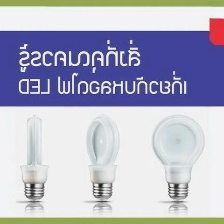light_bulb: (150, 112, 205, 203), (78, 110, 124, 206), (16, 110, 53, 204)
